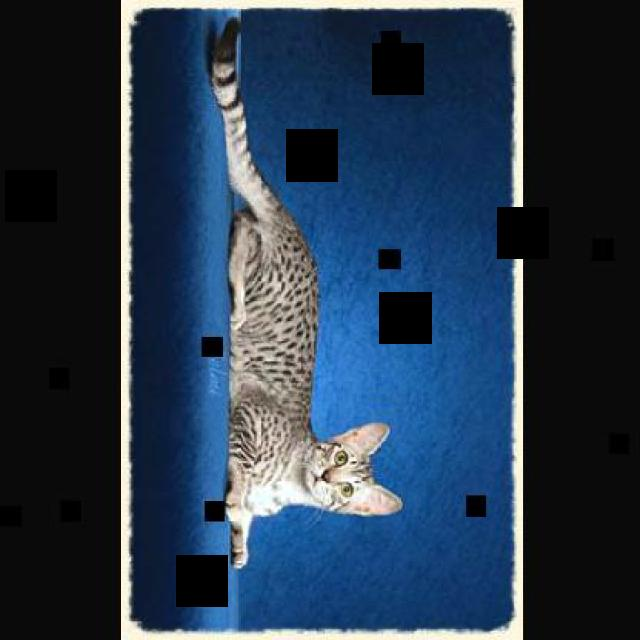unauthorized: (206, 16, 403, 570)
